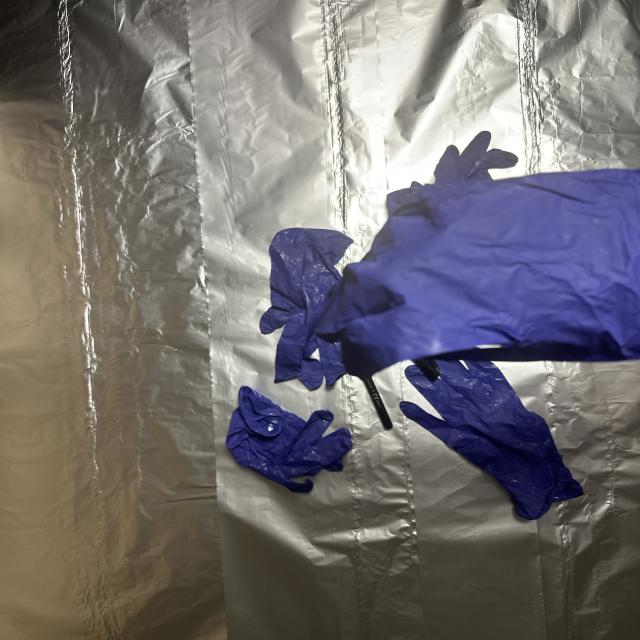glove_not_fitted: (337, 174, 640, 374)
